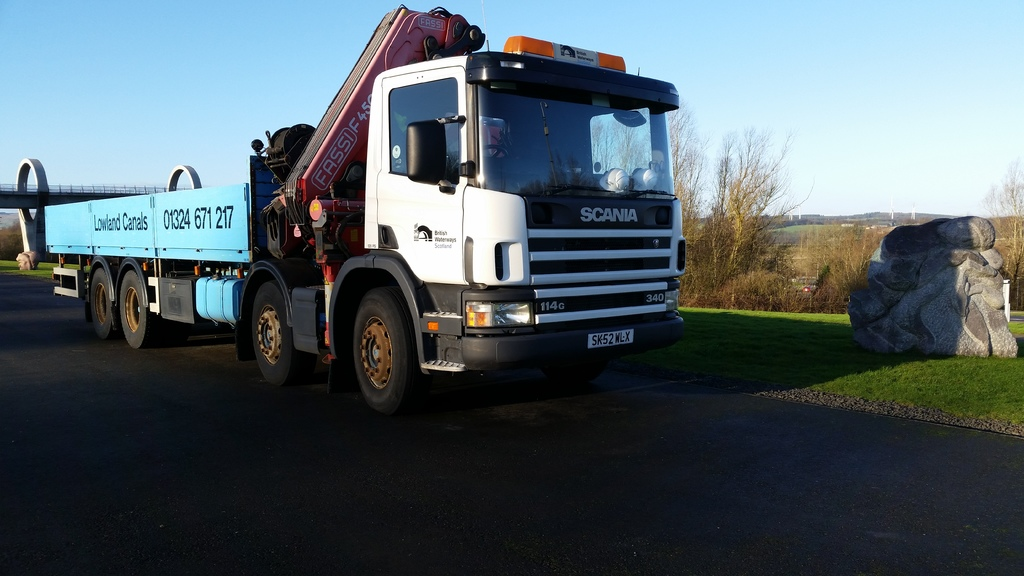truck: (19, 1, 763, 454)
